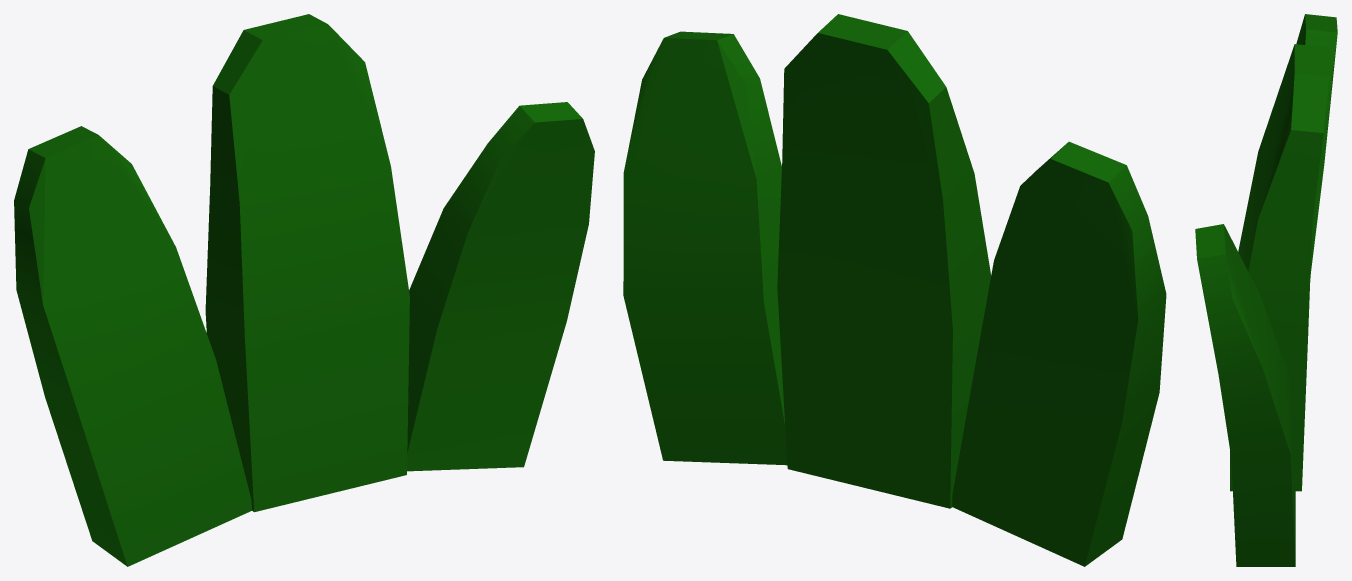
Rendered from SM_Grass_1.FBX.
3 renders of one model, left to right at view 1: azimuth 30°, elevation 25°; view 2: azimuth 150°, elevation 25°; view 3: azimuth 270°, elevation 25°, orthographic. The views are drawn at different scales.
Visible parts, largest first — view 1: 1; view 2: 1; view 3: 1.
Boxes of the visible parts, bbox=[...] form: 1: bbox=[14, 14, 594, 566]; 1: bbox=[623, 14, 1166, 566]; 1: bbox=[1195, 14, 1337, 566].
Size of the model in its own units: 13.48 by 11.51 by 3.52.
